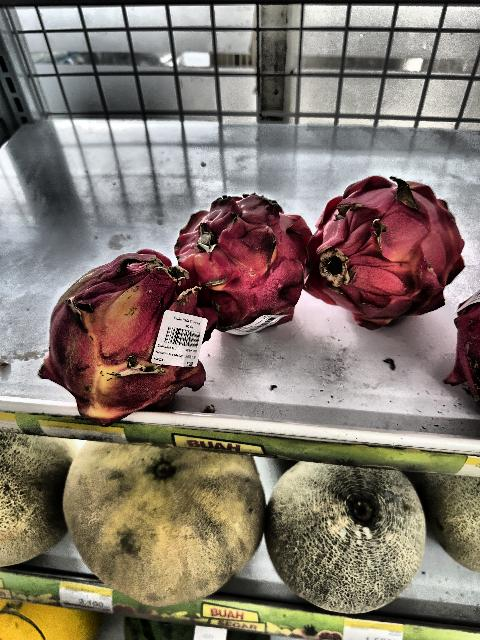buah-naga-belum-matang: (43, 248, 214, 424)
buah-naga-matang: (309, 177, 460, 325), (167, 196, 309, 328)
